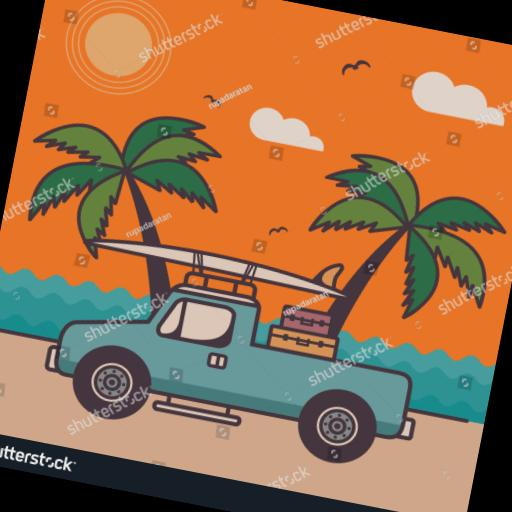pickup: (37, 256, 437, 482)
